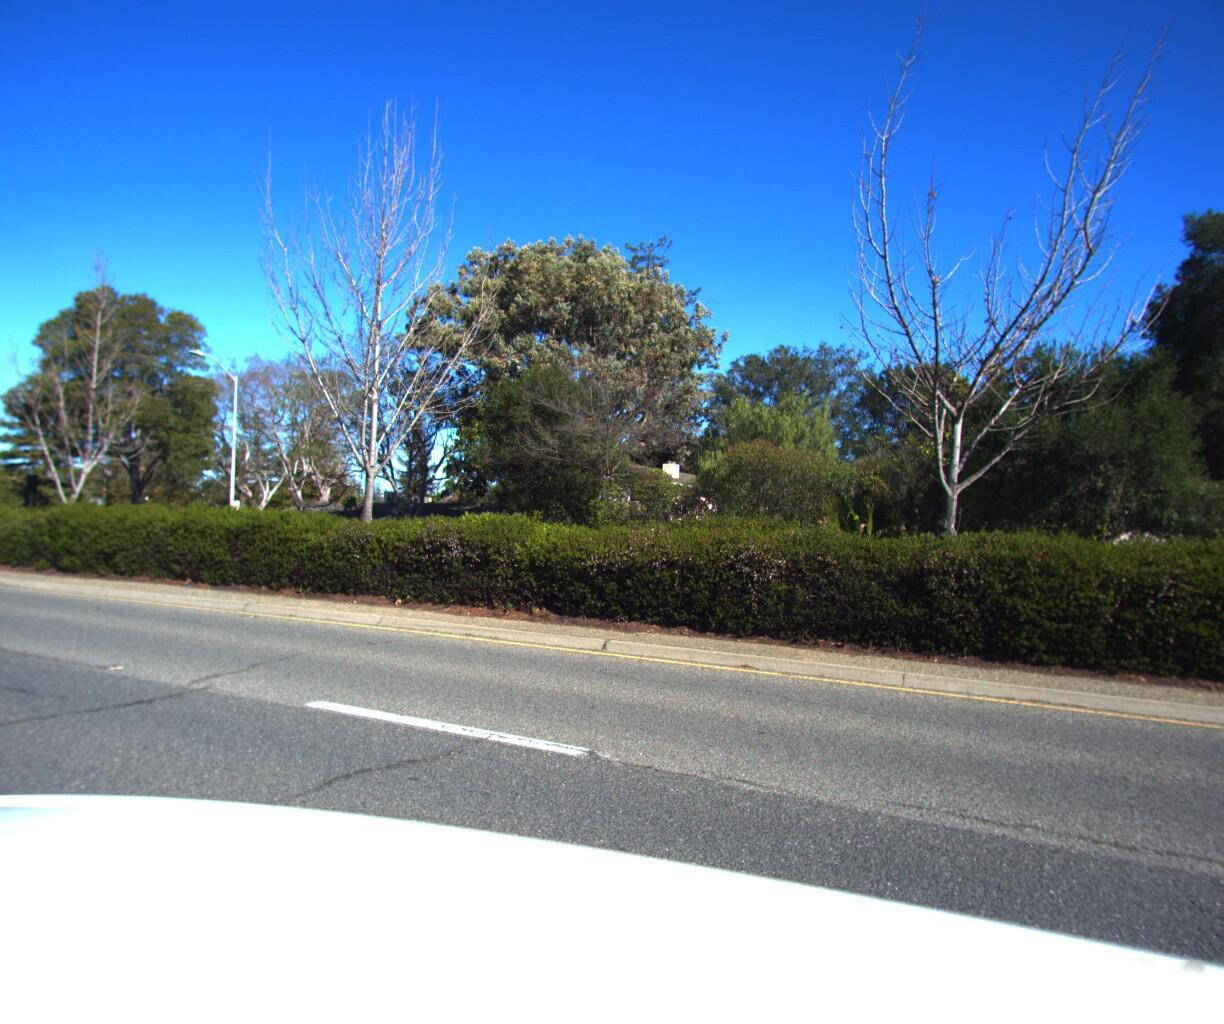car: (180, 503, 286, 550)
